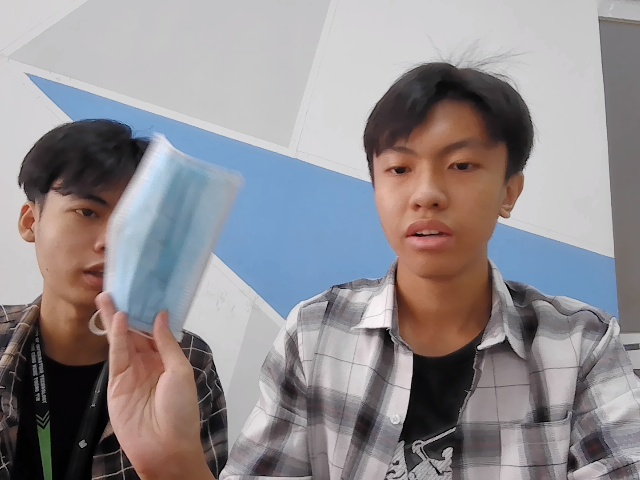human: (364, 59, 529, 284), (25, 122, 153, 320)
mask: (104, 133, 234, 351)
